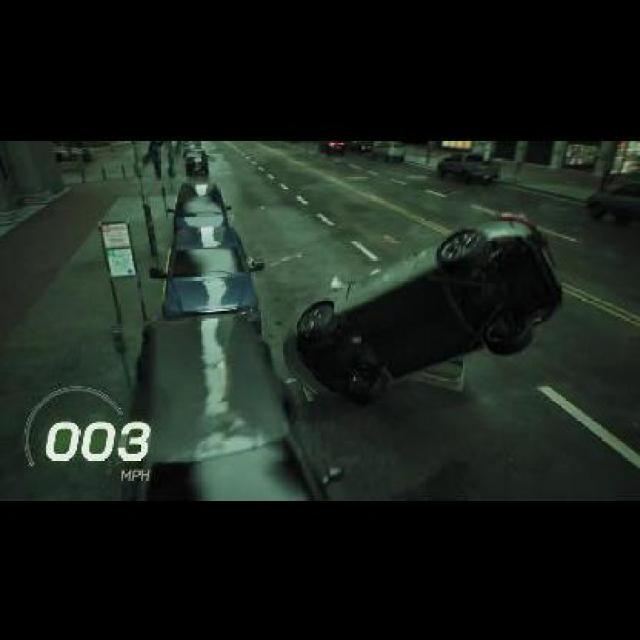accident: (283, 205, 568, 408)
